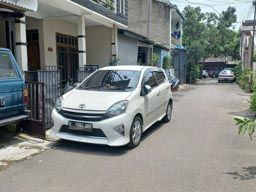plat: (69, 121, 92, 132)
